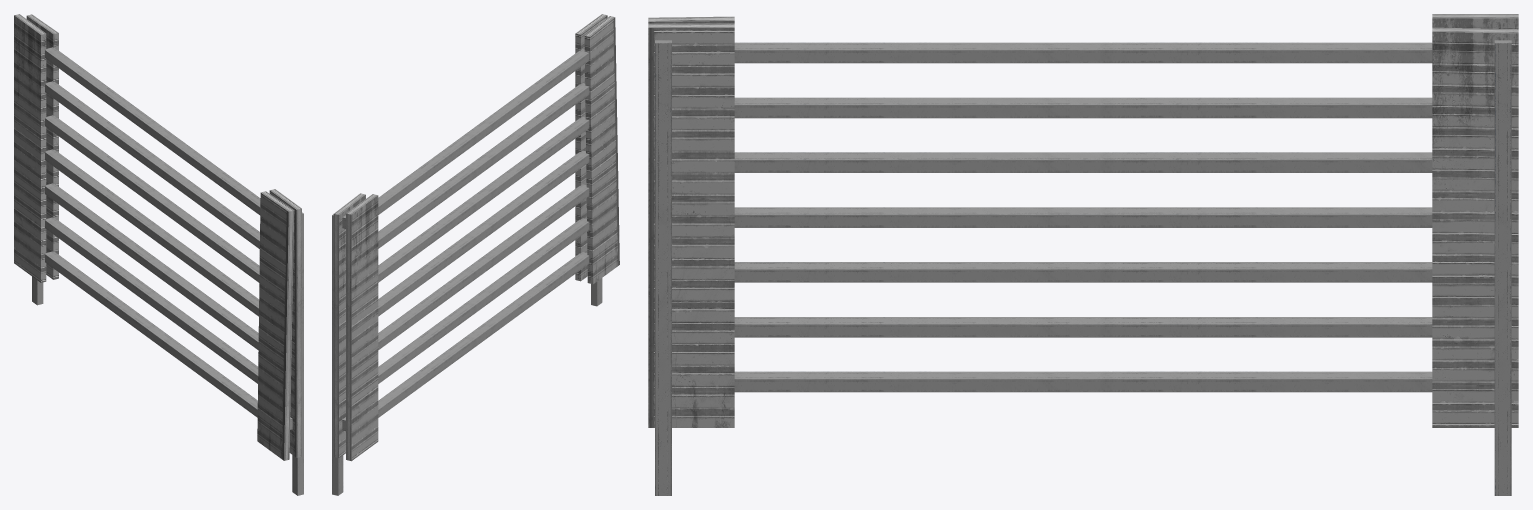
File: CP_Louvered_Screen_04.fbx
3 views of the same model, side by side, from view 1: azimuth 30°, elevation 25°; view 2: azimuth 150°, elevation 25°; view 3: azimuth 270°, elevation 25° (orthographic). The views are drawn at different scales.
Parts seen in each view (by area): view 1: CP_Louvered_Screen_04; view 2: CP_Louvered_Screen_04; view 3: CP_Louvered_Screen_04.
Boxes of the visible parts, x1=… form: CP_Louvered_Screen_04: x1=14, y1=14, x2=303, y2=495; CP_Louvered_Screen_04: x1=332, y1=14, x2=619, y2=495; CP_Louvered_Screen_04: x1=648, y1=14, x2=1518, y2=495.
Bounding box in the file's own units: 13.79 × 174 × 296.
